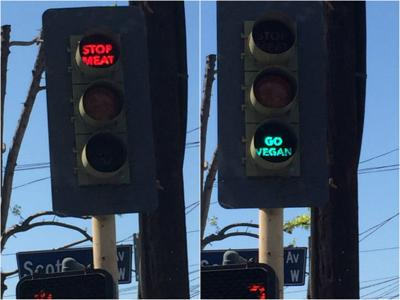trafficlight_green: (245, 18, 302, 174)
trafficlight_red: (75, 31, 128, 184)
